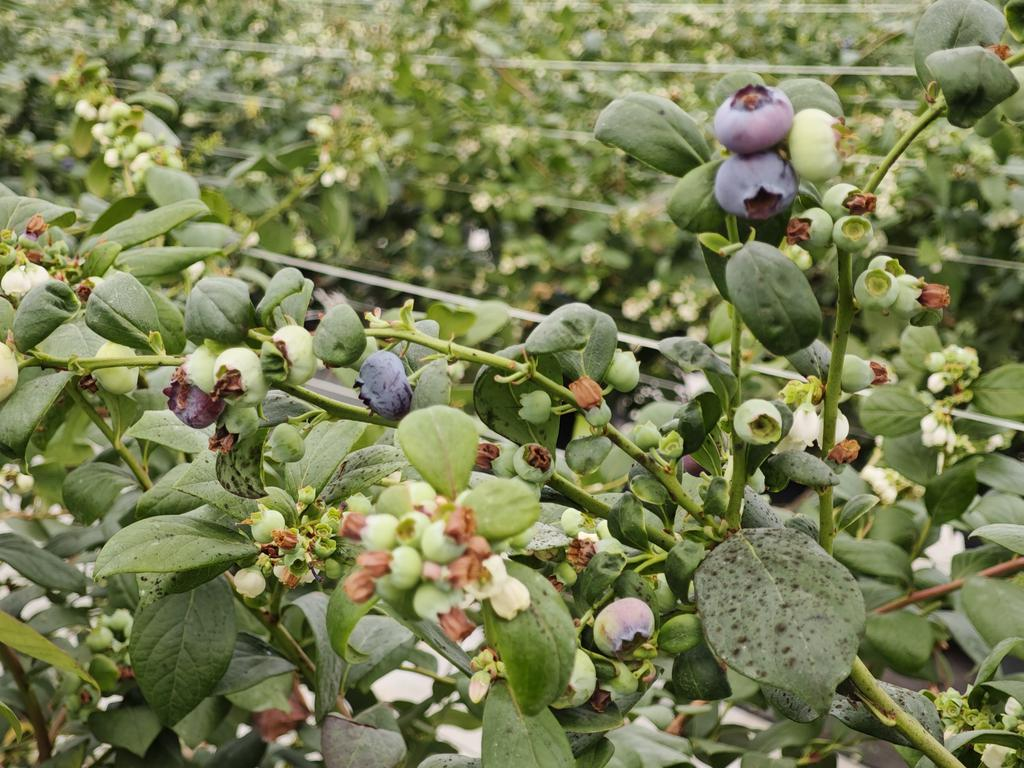RipeBlueBerry: (713, 150, 799, 220), (354, 348, 414, 421)
Semi-RipeBlueBerry: (710, 82, 797, 153), (590, 595, 659, 657)
UnripeBlueBerry: (790, 109, 850, 182)
